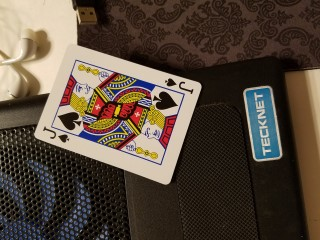JackOfSpades: (34, 44, 203, 186)
